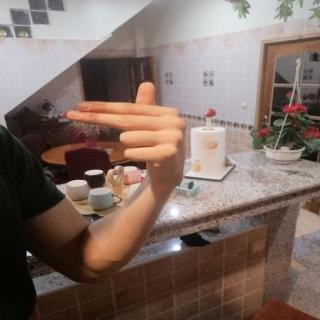GHAYN: (60, 76, 196, 189)
